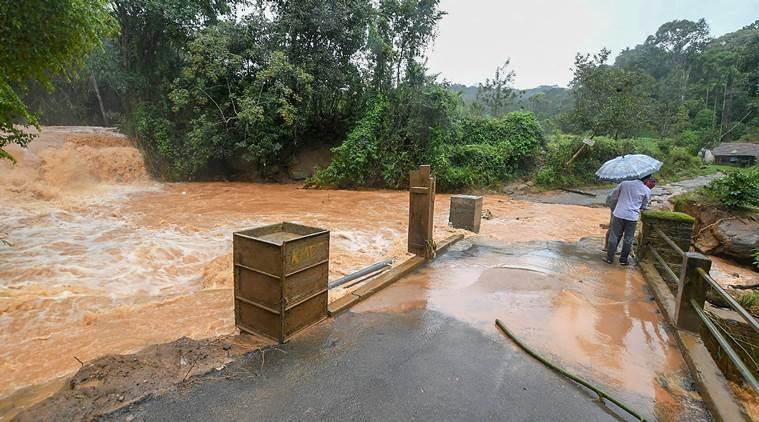victim: (598, 170, 660, 268)
